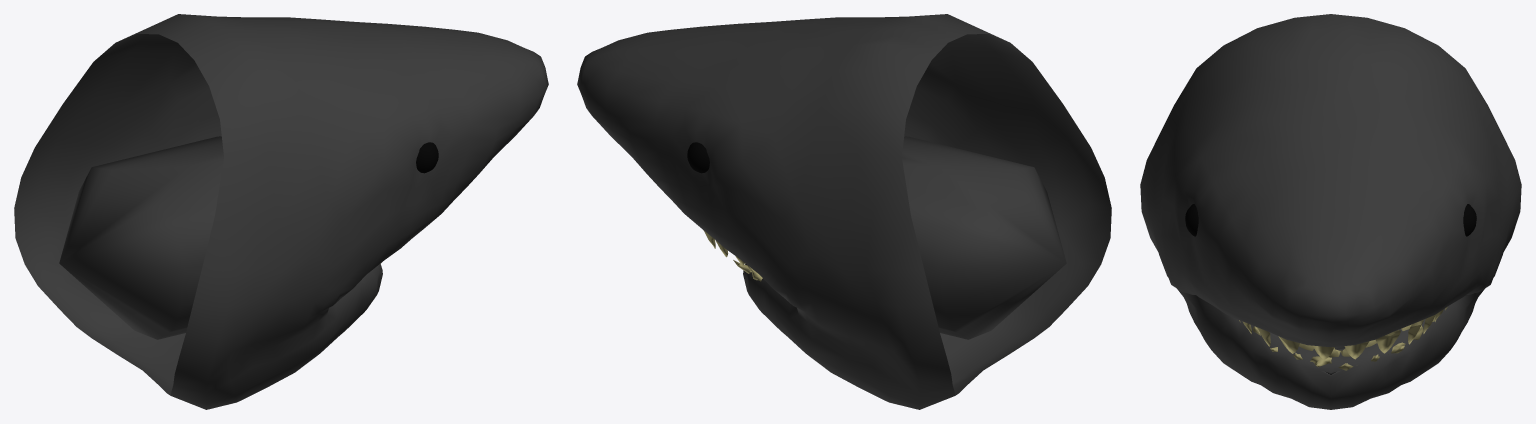
The model's file is SM_Shark_Head.FBX.
3 views of the same model, side by side, from view 1: azimuth 30°, elevation 25°; view 2: azimuth 150°, elevation 25°; view 3: azimuth 270°, elevation 25° (orthographic). The views are drawn at different scales.
Visible parts, largest first — view 1: SM_Shark_Head; view 2: SM_Shark_Head; view 3: SM_Shark_Head.
Boxes of the visible parts, x1,y1,x2,y2 form: SM_Shark_Head: (14,14,548,409); SM_Shark_Head: (577,14,1111,409); SM_Shark_Head: (1140,14,1521,409).
Size of the model in its own units: 46.88 by 30.91 by 31.7.
